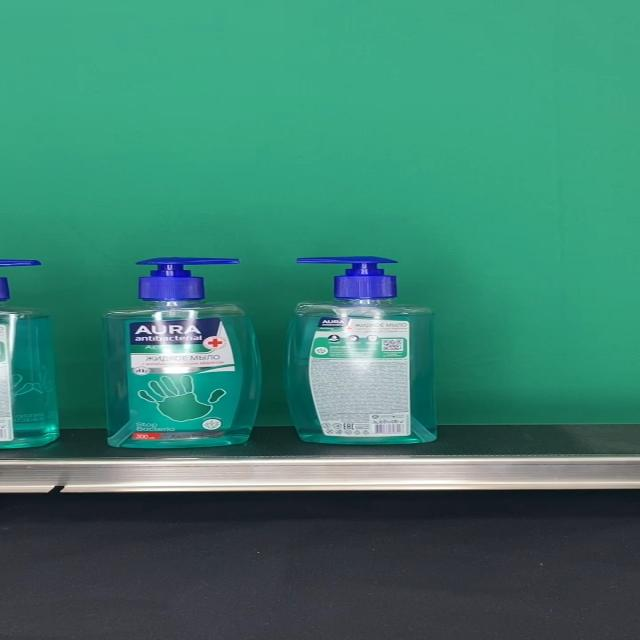Bottle: (103, 258, 262, 448), (284, 257, 438, 444)
Cap: (294, 256, 398, 299), (137, 258, 241, 300)
